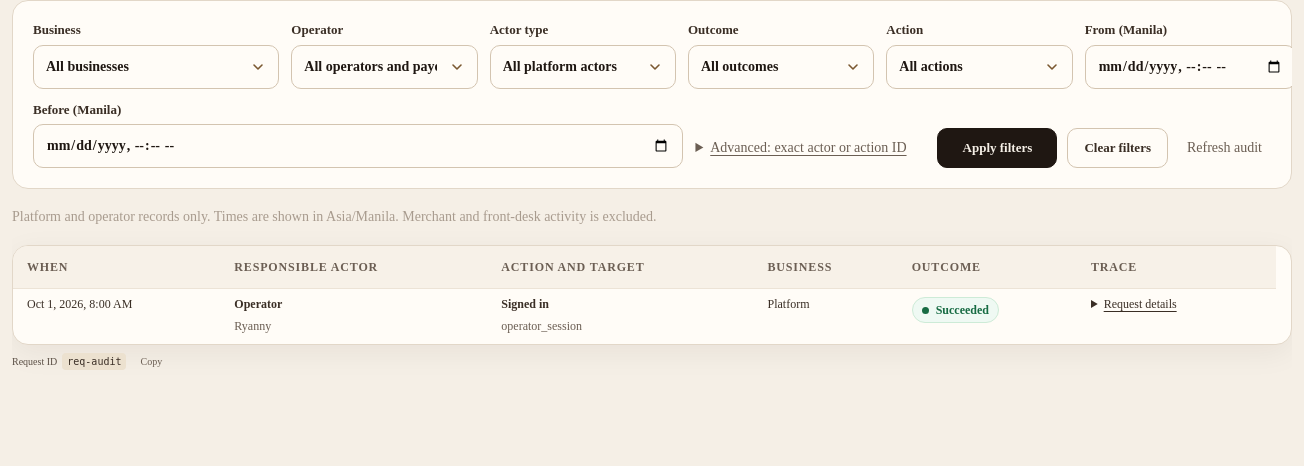
Test case: readable system audit filters › rejects an inverted date range before requesting a filtered page
expect the table is shown: met, box [13,246,1276,344]
Step 1. Type "2026-10-15T12:00" into the field labelled "From (Manila)" → (1188, 66), box [1085,44,1292,88]
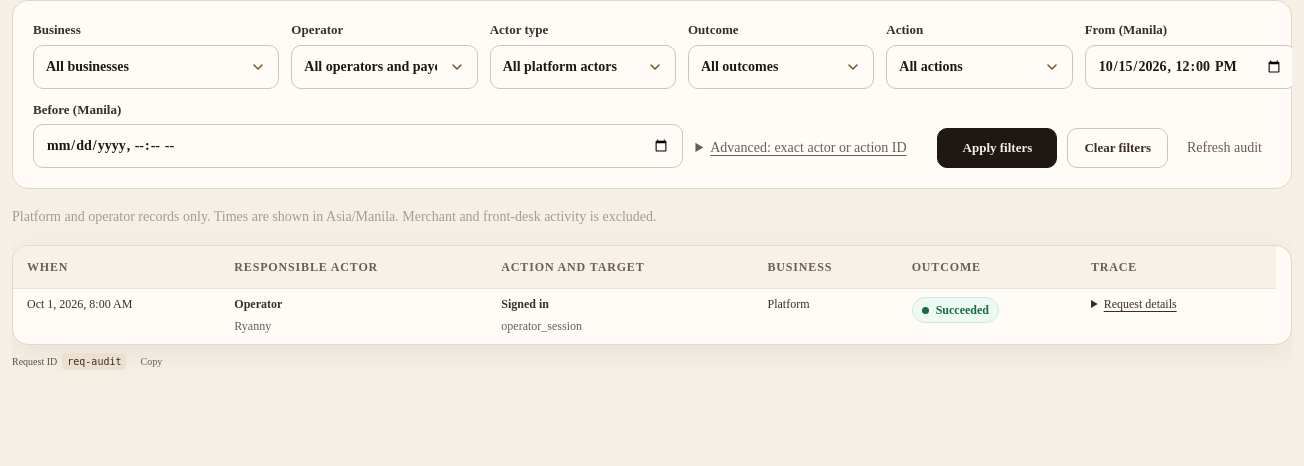
Step 2. Type "2026-10-14T12:00" into the field labelled "Before (Manila)" → (358, 146), box [33,124,683,168]
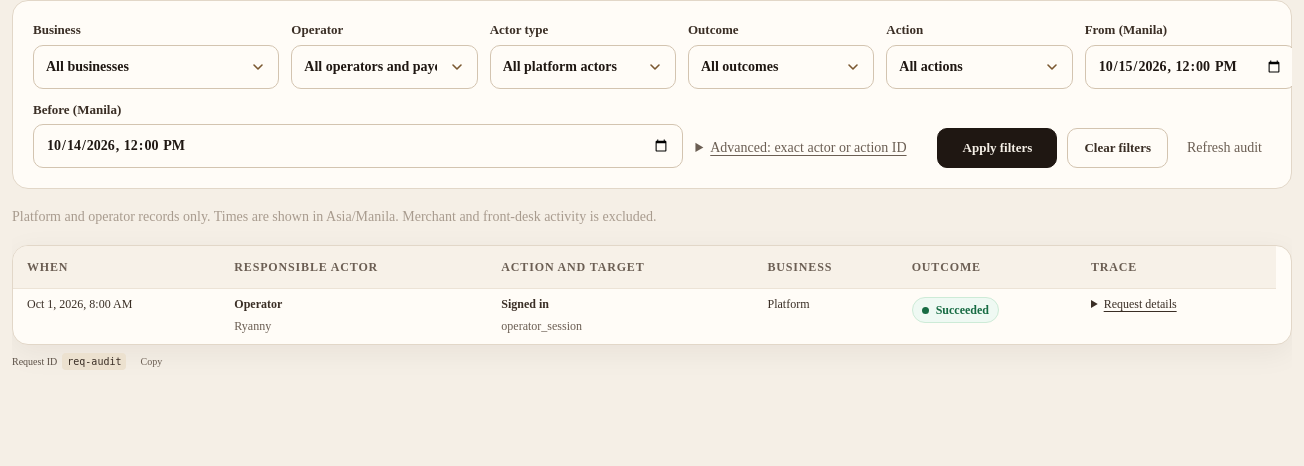
Step 3. Click the button "Apply filters" → (997, 148), box [937,128,1057,168]
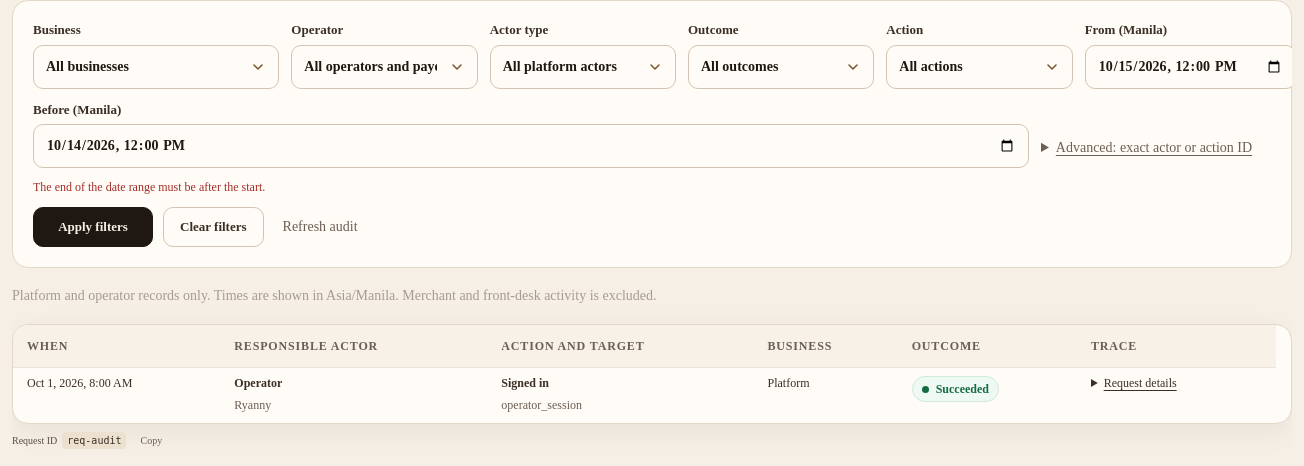
expect the message reads "The end of the date range must be after the start.": met, box [33,180,265,194]
